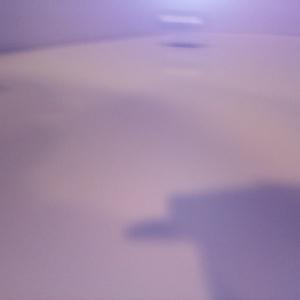alive_ball: (157, 13, 206, 47)
